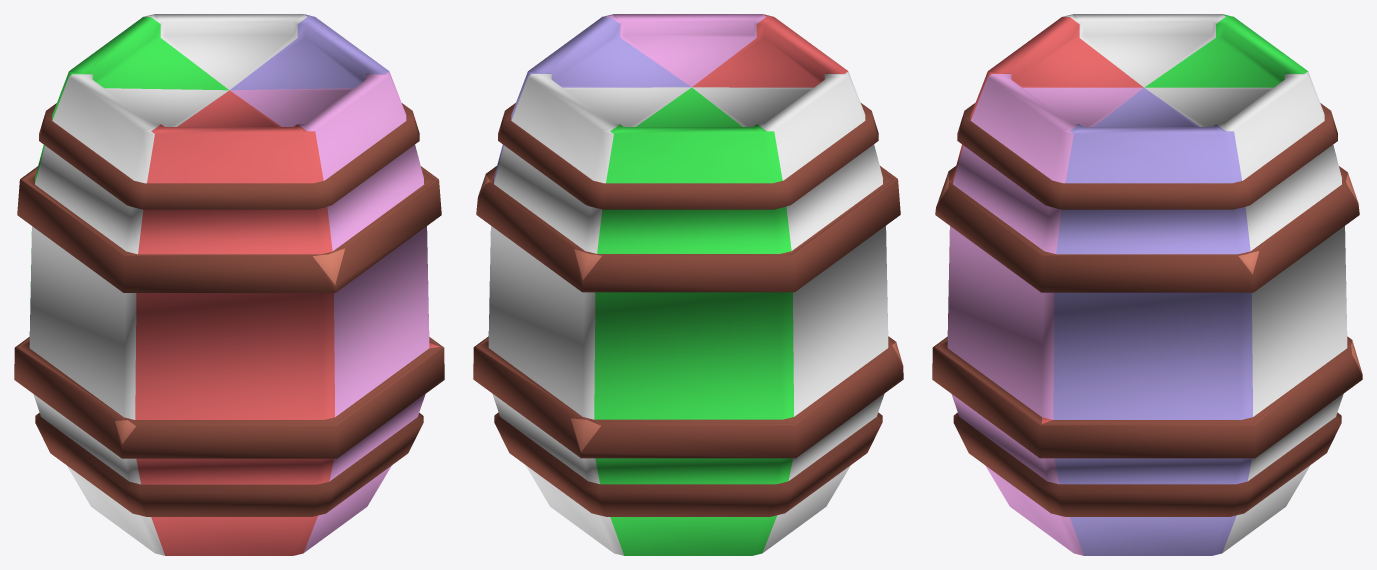
File: barrel marshmallow 2combi.fbx
3 views of the same model, side by side, from view 1: azimuth 30°, elevation 25°; view 2: azimuth 150°, elevation 25°; view 3: azimuth 270°, elevation 25° (orthographic).
Parts seen in each view (by area): view 1: Cylinder; view 2: Cylinder; view 3: Cylinder.
Part boxes in pixels (x1,y1,x2,y2): Cylinder: (14,14,444,555); Cylinder: (473,14,903,555); Cylinder: (932,14,1362,555).
Size of the model in its own units: 235 by 299 by 272.
